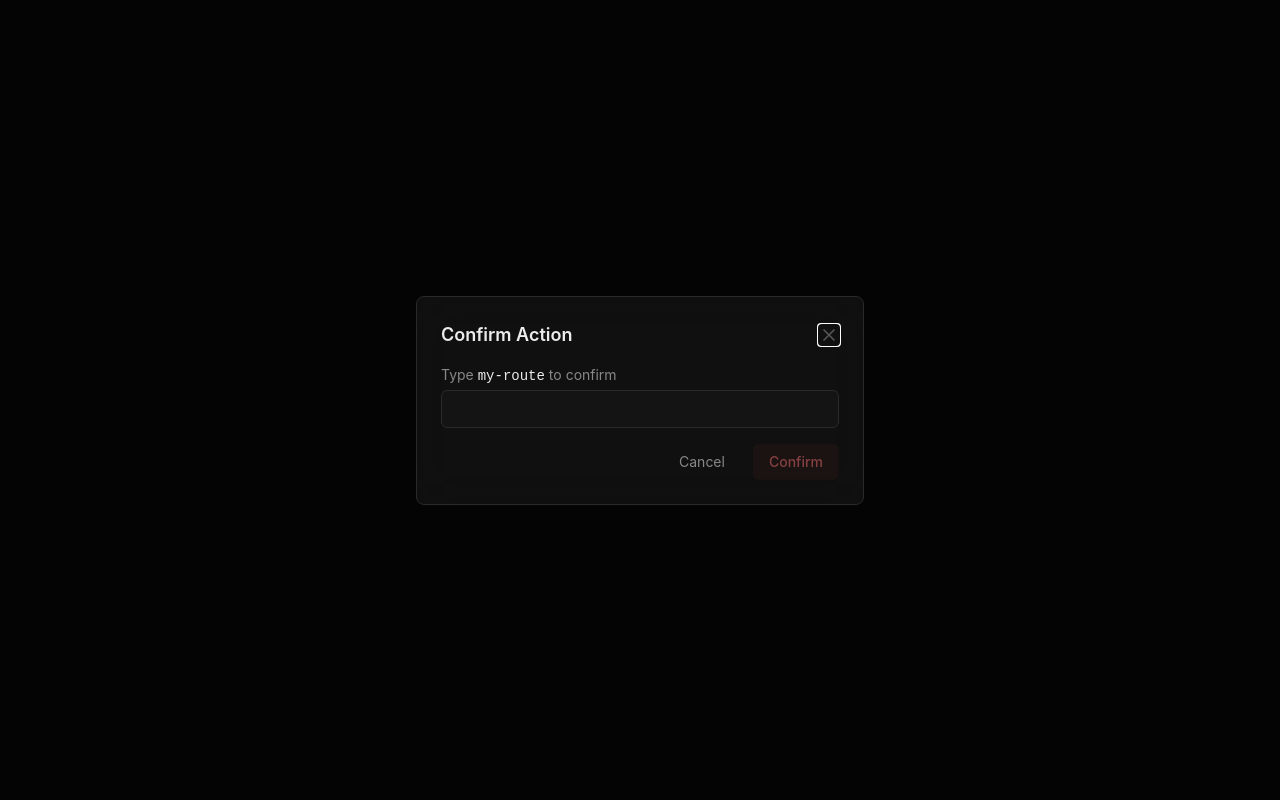
Test: ConfirmModal › confirm disabled until name typed
Expected: the button "Confirm" is disabled, top-left (753, 444), bottom-right (839, 480)
In the field named "Confirmation input": point(640, 408) top-left (441, 390), bottom-right (839, 428), type "my-route"
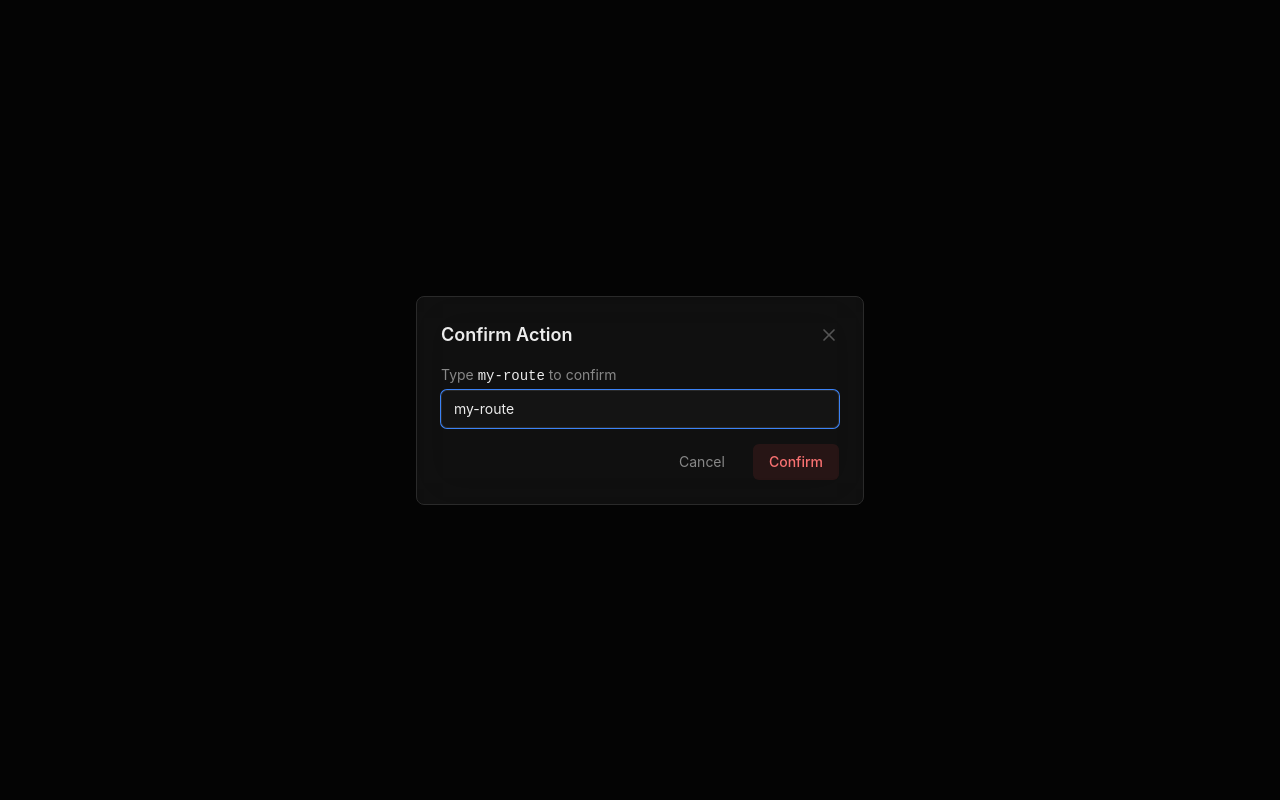
Expected: the button "Confirm" is enabled, top-left (753, 444), bottom-right (839, 480)
